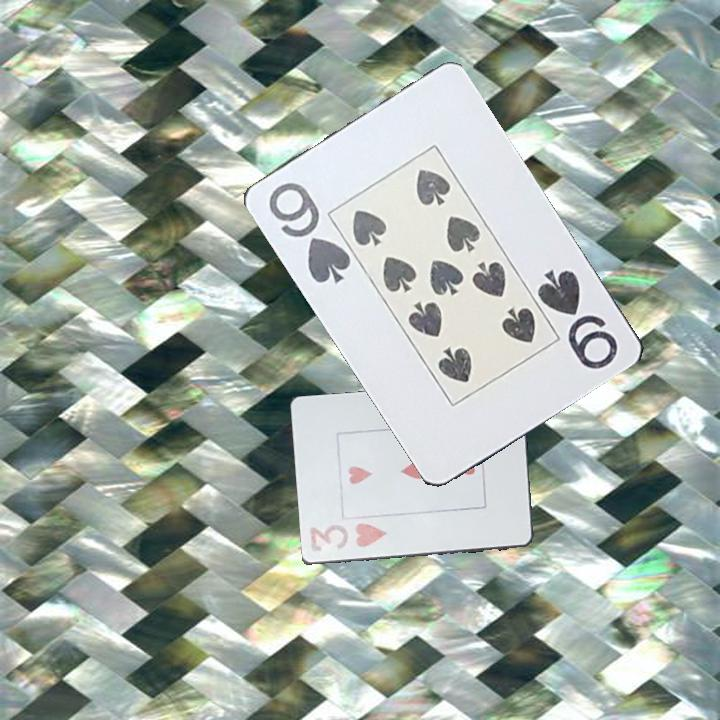3h: (306, 520, 389, 556)
9s: (265, 178, 356, 287), (534, 265, 622, 373)
